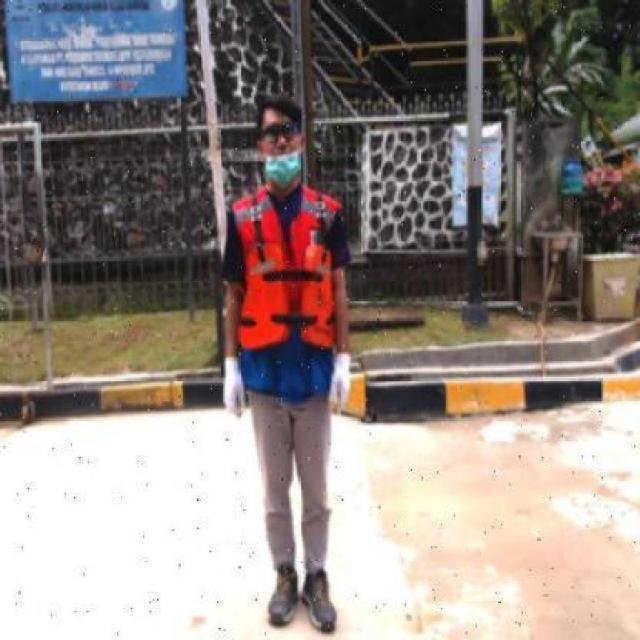Gloves: (221, 354, 247, 421), (326, 352, 352, 416)
Mask: (264, 154, 301, 188)
Protective Glasses: (265, 124, 303, 142)
Vest: (230, 184, 342, 353)
